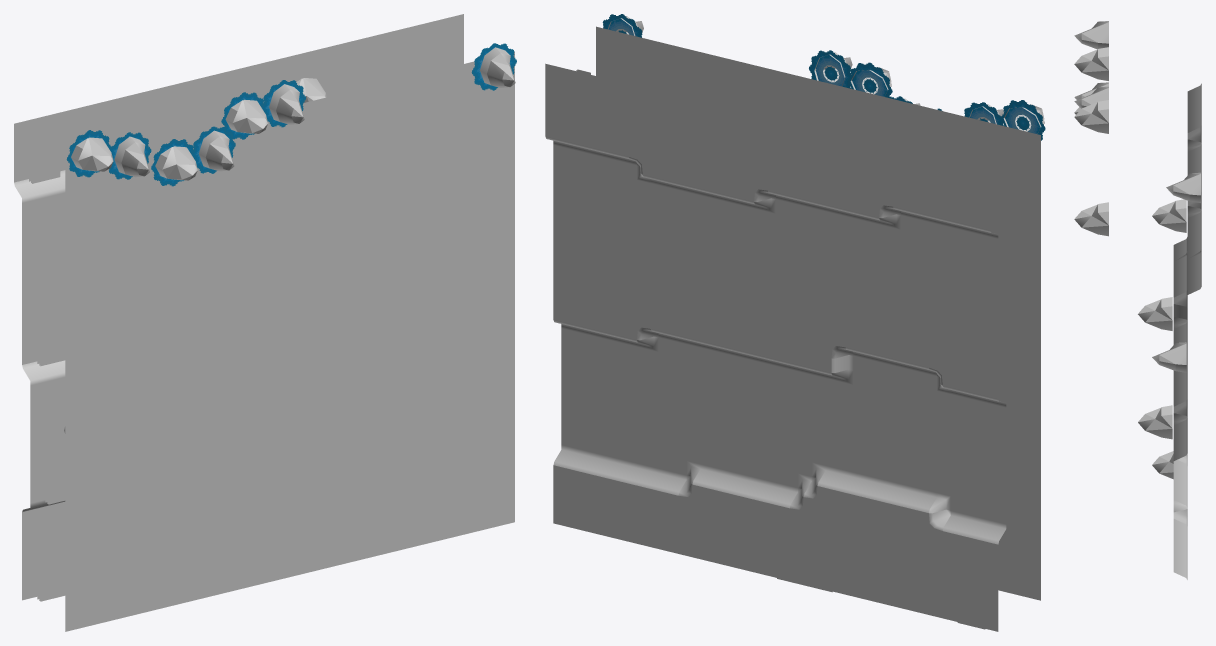
File: Asteria_15_26.obj
3 renders of one model, left to right at view 1: azimuth 30°, elevation 25°; view 2: azimuth 150°, elevation 25°; view 3: azimuth 270°, elevation 25°, orthographic. The views are drawn at different scales.
Visible parts, largest first — view 1: map; view 2: map; view 3: map.
Boxes of the visible parts, left/top/right/bottom form: map: left=14, top=14, right=516, bottom=631; map: left=545, top=14, right=1045, bottom=631; map: left=1074, top=21, right=1201, bottom=579.
Bounding box in the file's own units: 32.11 × 34.23 × 9.04.
